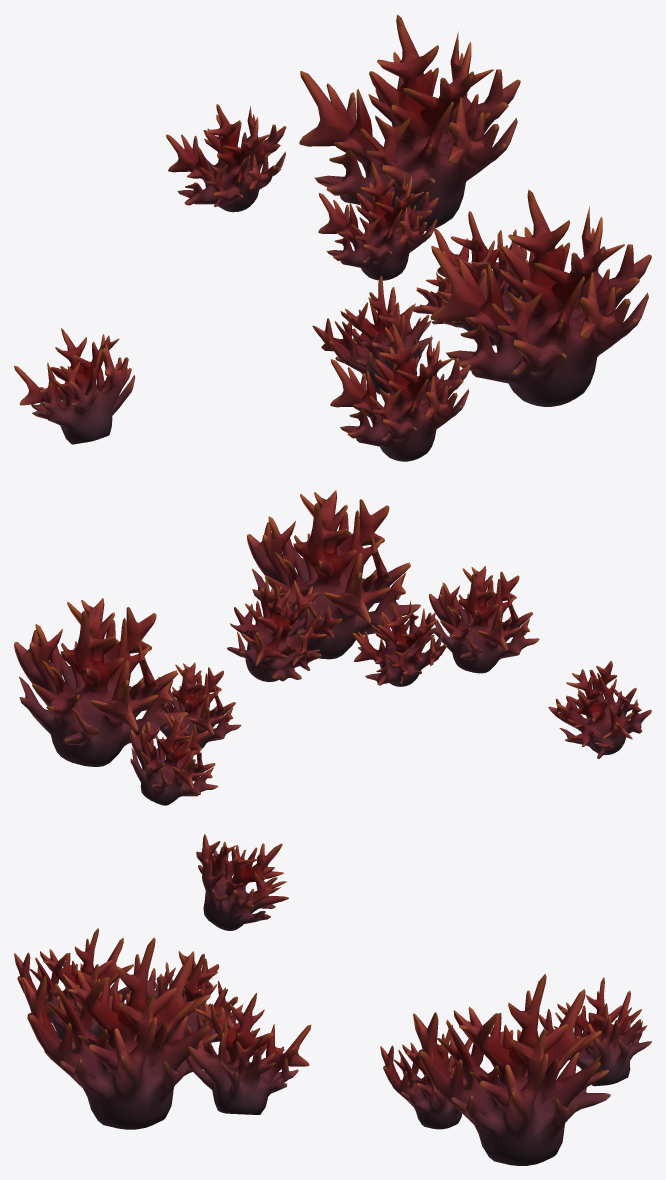
The model's file is turtleSceneCoral_edit_for_FBX.fbx.
3 views of the same model, one above another, from view 1: azimuth 30°, elevation 25°; view 2: azimuth 150°, elevation 25°; view 3: azimuth 270°, elevation 25° (orthographic). The views are drawn at different scales.
Visible parts, largest first — view 1: coral3_Default_0.001, coral6_Default_0.001, coral7_Default_0.001, coral2_Default_0.001, coral8_Default_0.001, coral5_Default_0.001, coral4_Default_0.001, coral_26_Default_0.001; view 2: coral6_Default_0.001, coral3_Default_0.001, coral7_Default_0.001, coral_26_Default_0.001, coral5_Default_0.001, coral8_Default_0.001, coral4_Default_0.001, coral2_Default_0.001; view 3: coral6_Default_0.001, coral3_Default_0.001, coral_26_Default_0.001, coral8_Default_0.001, coral5_Default_0.001, coral7_Default_0.001, coral2_Default_0.001, coral4_Default_0.001.
Boxes of the visible parts, box(x1,y1,x2,y2) form: coral3_Default_0.001: box(430, 189, 651, 406); coral6_Default_0.001: box(299, 14, 520, 230); coral7_Default_0.001: box(330, 323, 470, 461); coral2_Default_0.001: box(318, 162, 438, 280); coral8_Default_0.001: box(14, 328, 135, 444); coral5_Default_0.001: box(166, 104, 286, 212); coral4_Default_0.001: box(312, 275, 432, 394); coral_26_Default_0.001: box(413, 211, 528, 345); coral6_Default_0.001: box(14, 598, 188, 766); coral3_Default_0.001: box(247, 490, 421, 659); coral7_Default_0.001: box(429, 566, 539, 673); coral_26_Default_0.001: box(227, 579, 341, 682); coral5_Default_0.001: box(130, 714, 218, 805); coral8_Default_0.001: box(548, 661, 651, 758); coral4_Default_0.001: box(352, 600, 446, 686); coral2_Default_0.001: box(157, 662, 241, 750); coral6_Default_0.001: box(413, 974, 610, 1165); coral3_Default_0.001: box(22, 937, 217, 1129); coral_26_Default_0.001: box(185, 993, 311, 1114); coral8_Default_0.001: box(196, 834, 288, 930); coral5_Default_0.001: box(538, 977, 651, 1086); coral7_Default_0.001: box(14, 928, 133, 1039); coral2_Default_0.001: box(380, 1024, 472, 1129); coral4_Default_0.001: box(146, 951, 243, 1043).
Bounding box in the file's own units: 17434 × 5203 × 16314.
